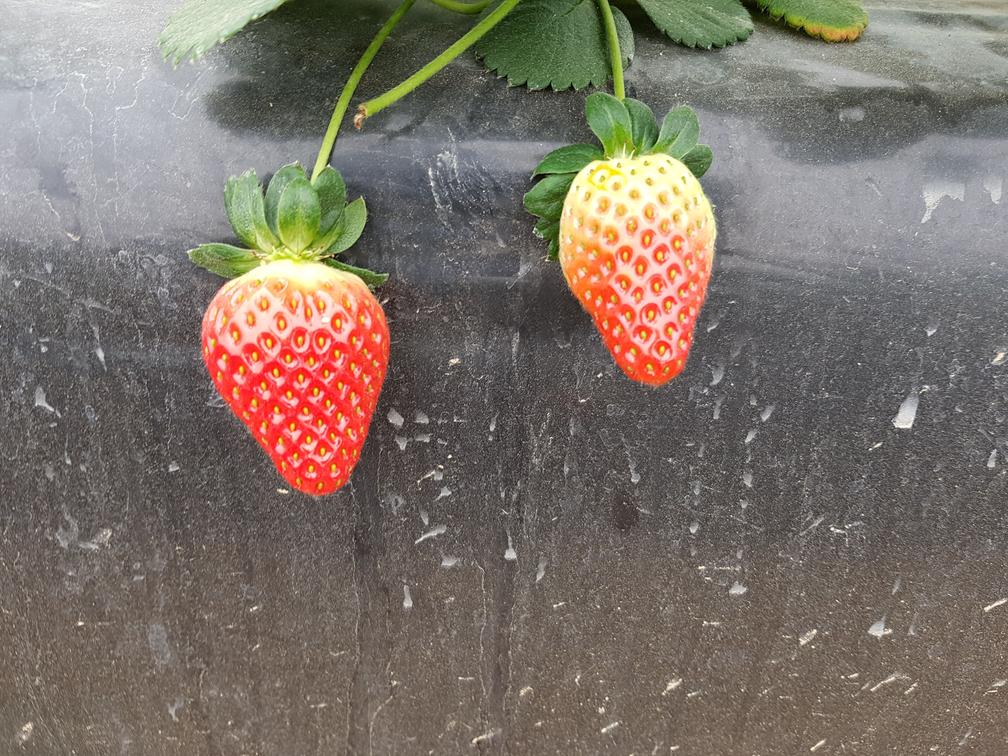Ripe: (194, 265, 398, 500), (558, 149, 720, 390)
